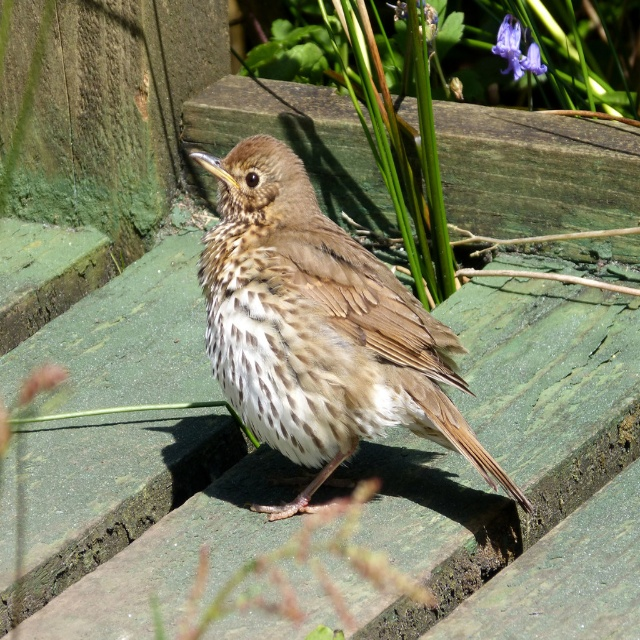Sparrow: (186, 133, 534, 513)
